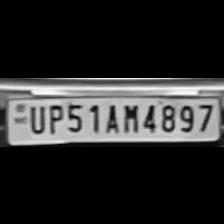1: (84, 100, 100, 132)
4: (140, 99, 156, 131)
5: (63, 98, 85, 132)
7: (194, 98, 214, 132)
8: (158, 99, 176, 131)
9: (177, 99, 195, 131)
A: (100, 100, 120, 132)
M: (119, 99, 139, 131)
P: (45, 100, 63, 132)
U: (24, 100, 46, 132)
